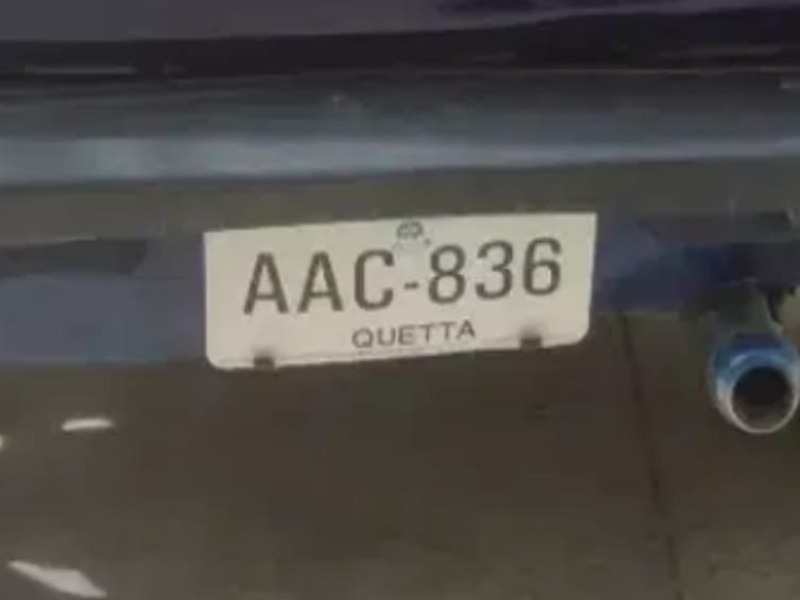License Plate: (200, 210, 596, 372)
